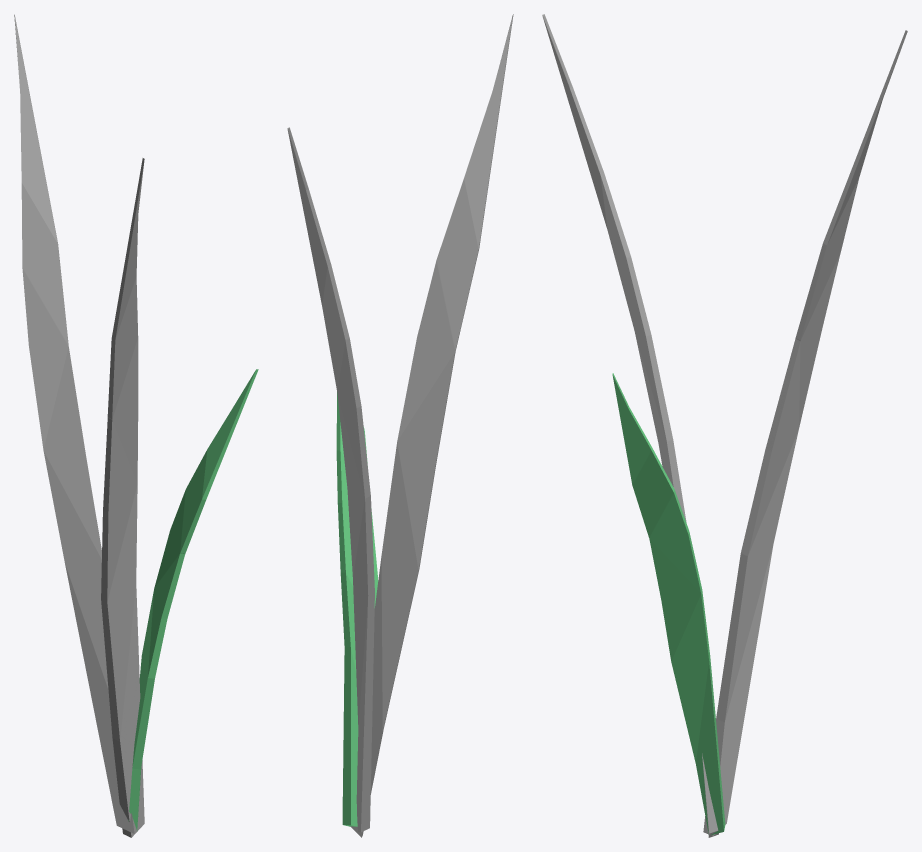
File: grass2.fbx
The picture shows the model from 3 angles, left to right: view 1: azimuth 30°, elevation 25°; view 2: azimuth 150°, elevation 25°; view 3: azimuth 270°, elevation 25°; orthographic projection. The views are drawn at different scales.
Parts seen in each view (by area): view 1: polySurface4, pasted__polySurface3, polySurface3; view 2: pasted__polySurface3, polySurface4, polySurface3; view 3: polySurface4, polySurface3, pasted__polySurface3.
Boxes of the visible parts, x1,y1,x2,y2 form: polySurface4: [14, 14, 134, 833]; pasted__polySurface3: [101, 158, 144, 837]; polySurface3: [128, 369, 258, 830]; pasted__polySurface3: [350, 14, 513, 837]; polySurface4: [287, 127, 374, 832]; polySurface3: [336, 392, 378, 826]; polySurface4: [703, 30, 907, 835]; polySurface3: [612, 373, 725, 834]; pasted__polySurface3: [542, 14, 718, 837].
Size of the model in its own units: 13.84 by 67.82 by 28.23.
